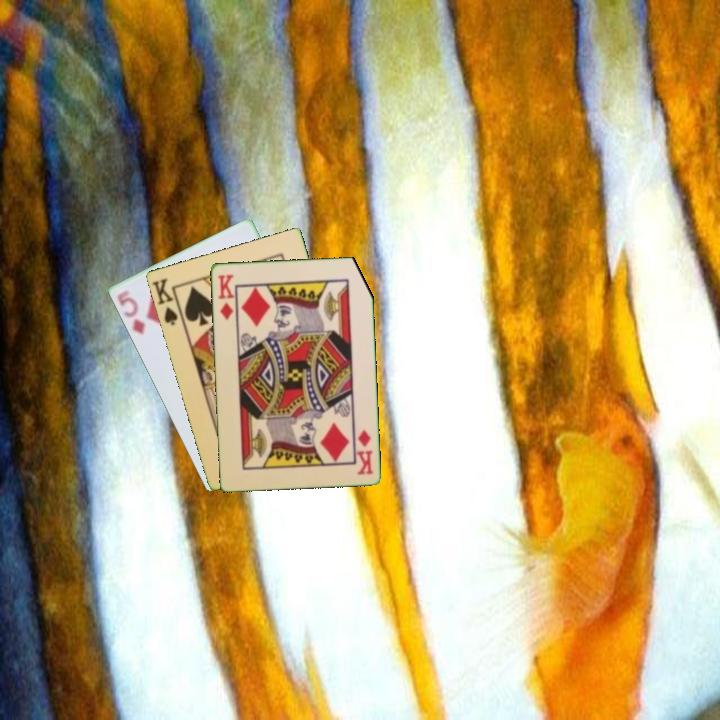5d: (113, 286, 147, 338)
Kd: (214, 270, 237, 323), (353, 426, 376, 477)
Ks: (148, 274, 186, 328)
